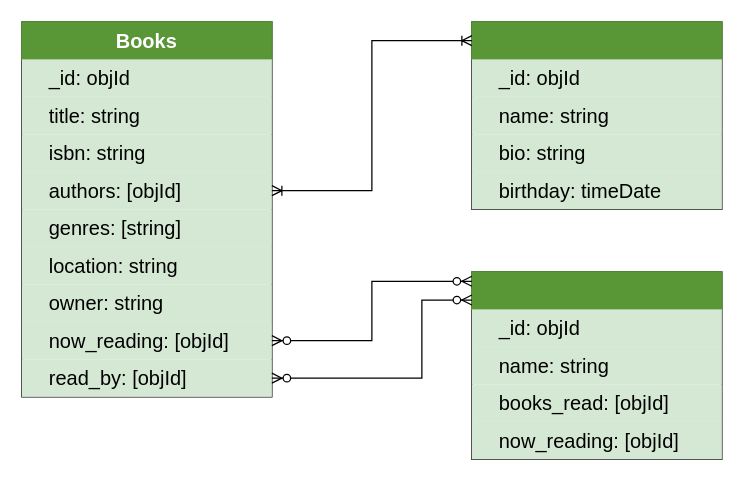
Image size: 744x481. Some labels were removed from this diagram. The box of each missing label's shape, as (x1, y1, x2, y2) in pixels:
Authors: (471, 21, 722, 59)
Readers: (471, 271, 722, 309)
